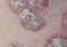plaque psoriasis: (6, 0, 47, 32), (11, 34, 67, 47)
